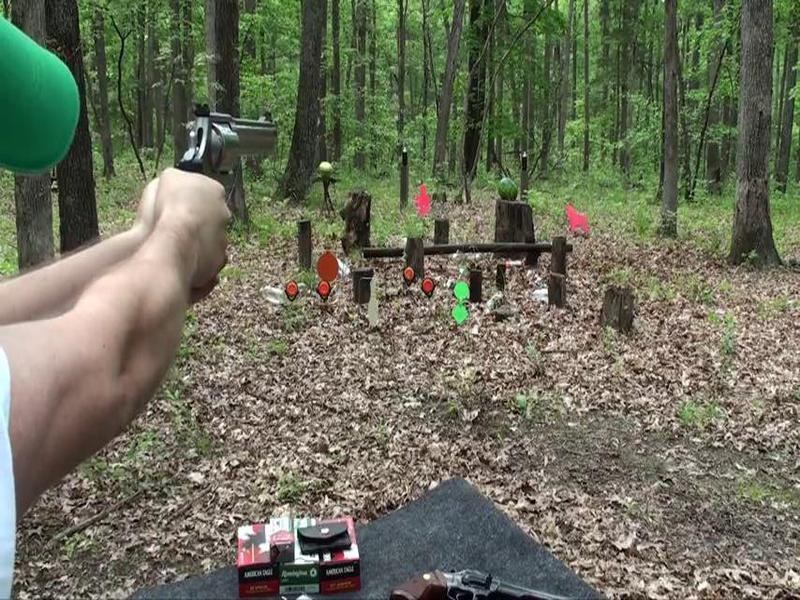Revolver: (167, 112, 291, 245)
